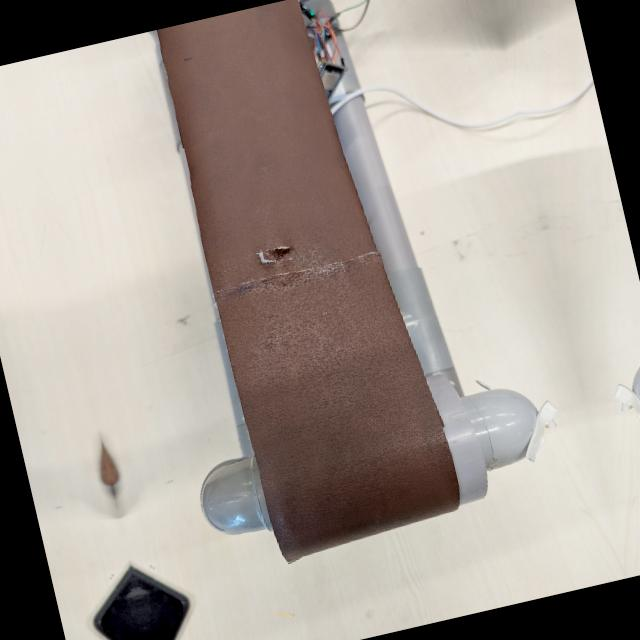joint_damage: (240, 225, 305, 277)
